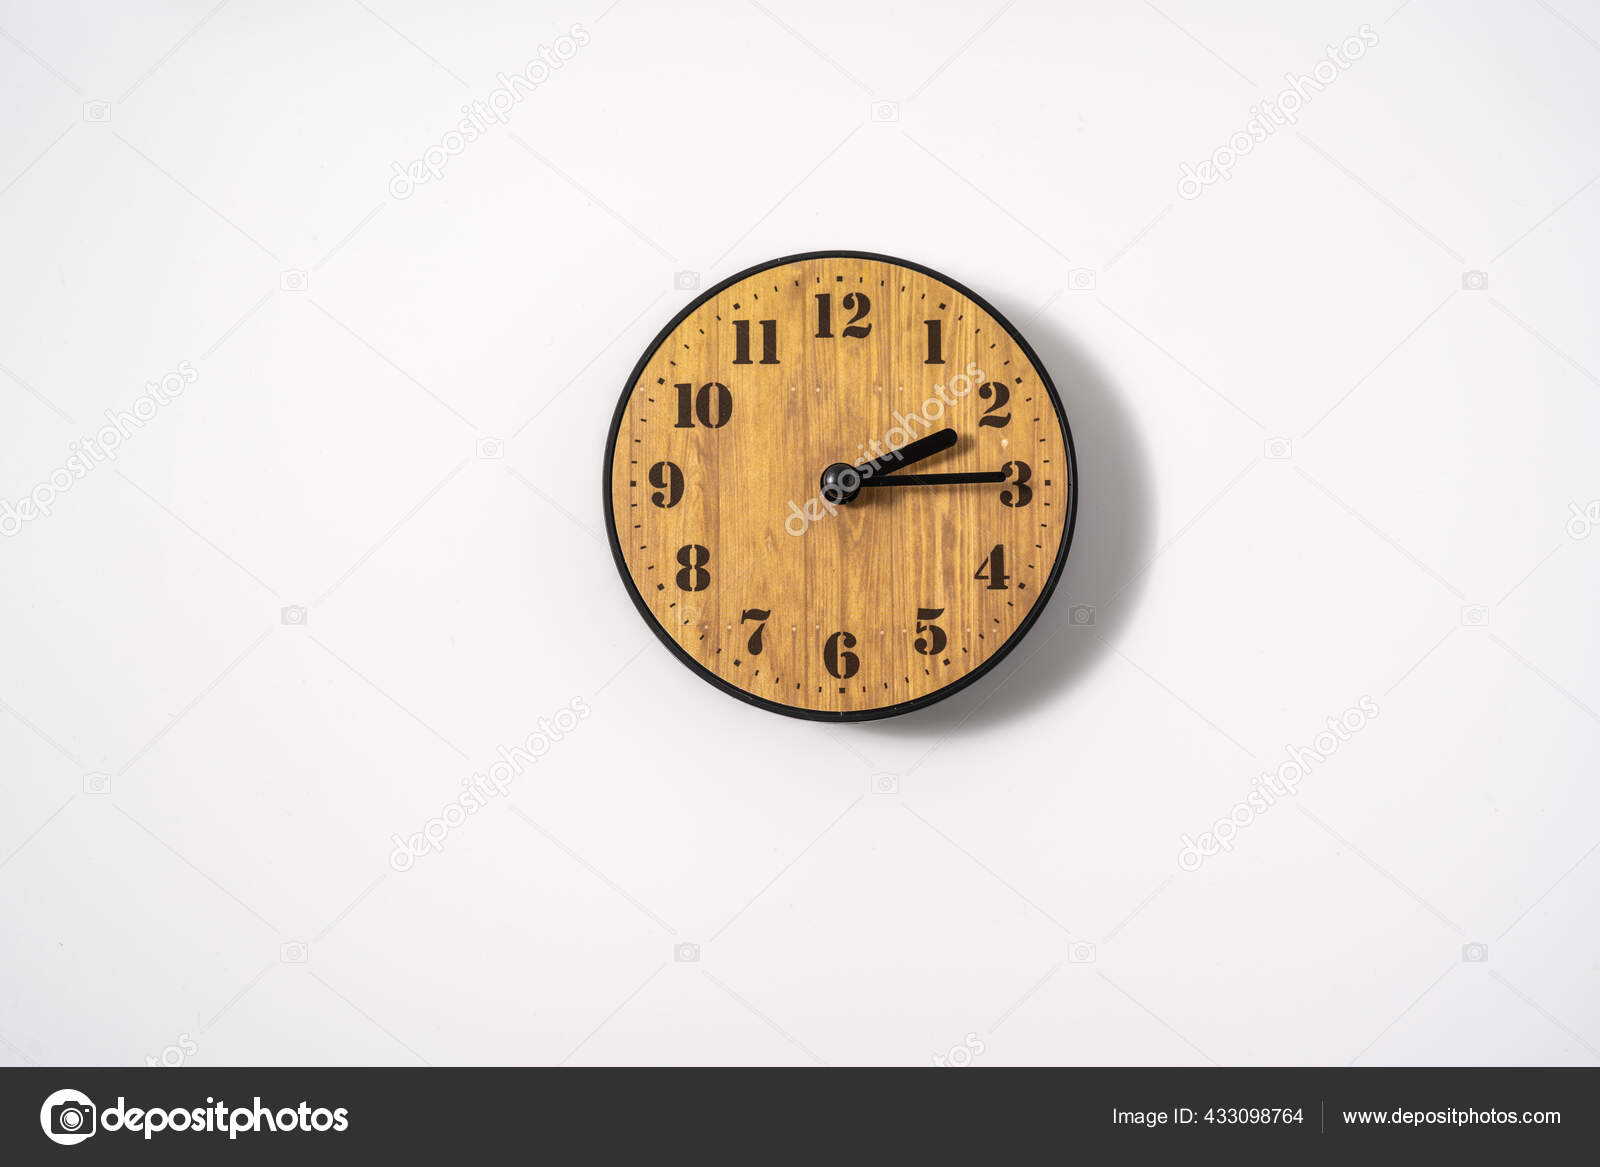jam dinding: (507, 230, 1158, 753)
